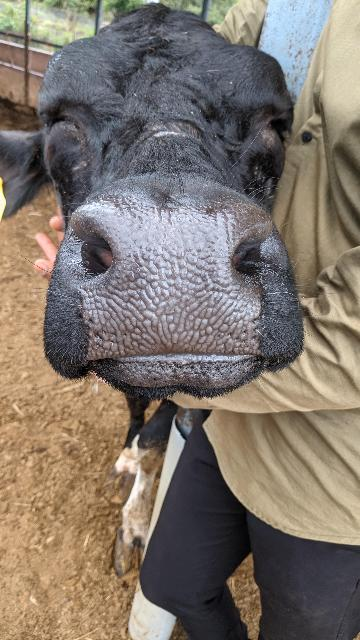Muzzle: (106, 209, 240, 345)
